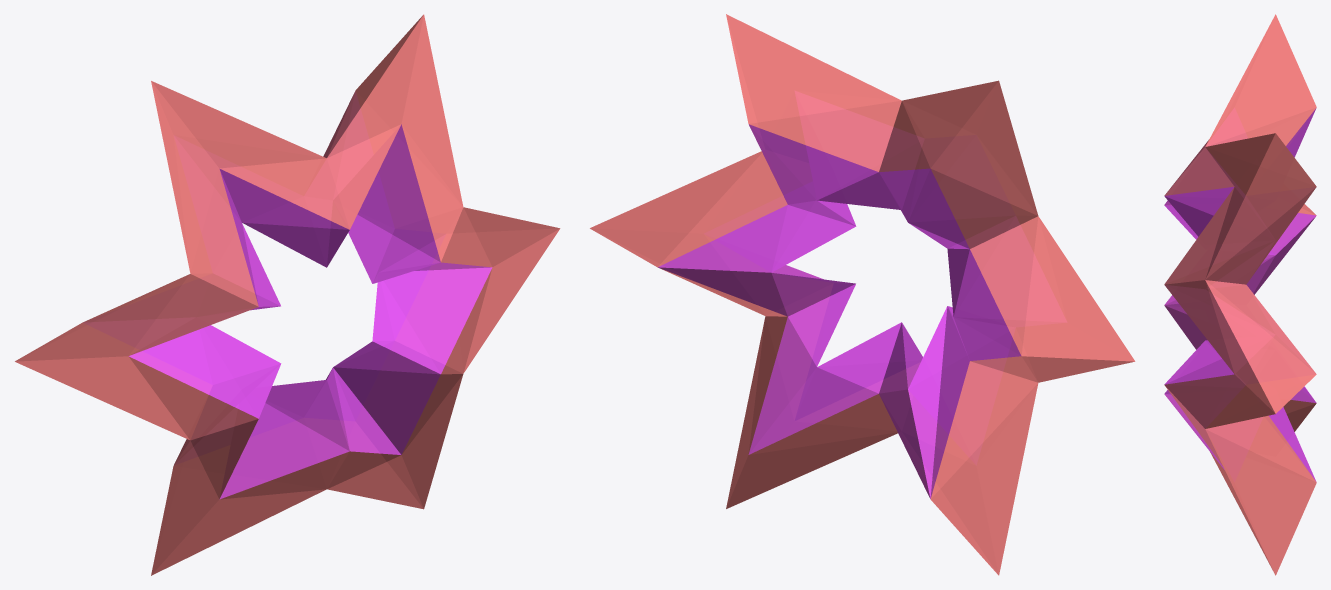
The model's file is Regular6TetragonalStarToroid1.obj.
3 renders of one model, left to right at view 1: azimuth 30°, elevation 25°; view 2: azimuth 150°, elevation 25°; view 3: azimuth 270°, elevation 25°, orthographic. The views are drawn at different scales.
Size of the model in its own units: 4.8 by 4.16 by 1.3.
